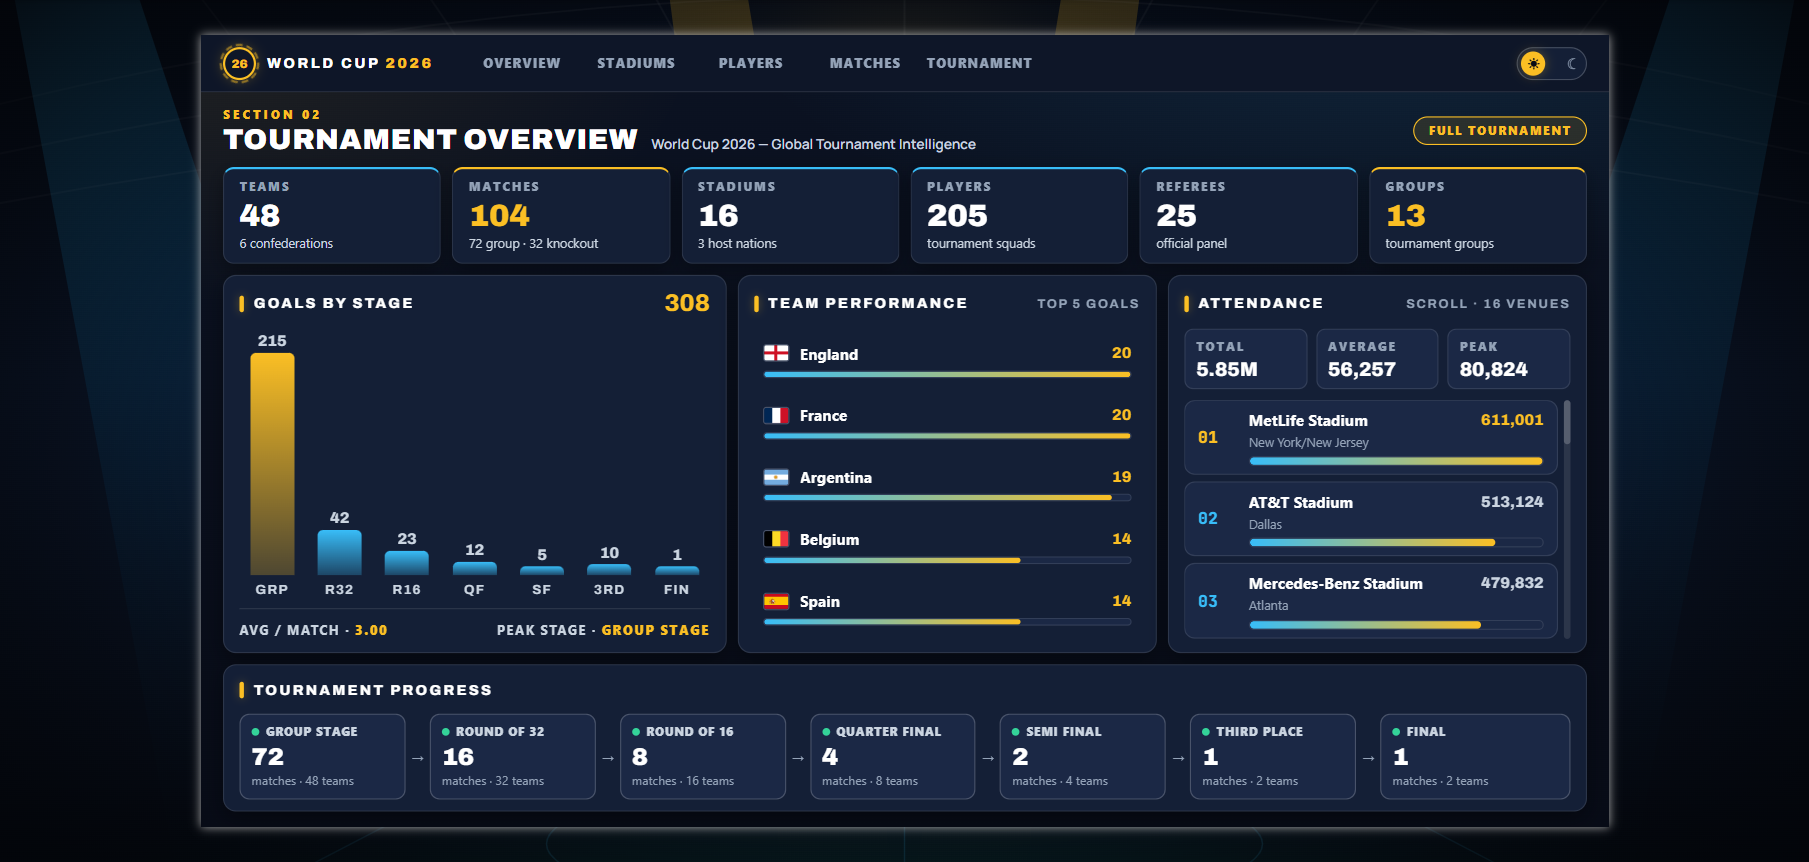

This screenshot's page, from the dashboard's own definition file:
{"tool":"powerbi","page":{"name":"Overview Page","canvas":[1280,720],"ordinal":1},"visuals":[{"type":"htmlContent443BE3AD55E043BF878BED274D3A6855","fields":{"content":["HTML Visuals.Overview_Page"]},"box":[0,0,1280,720],"z":0},{"type":"actionButton","title":"Tournament","box":[656,0,104,51],"z":4000},{"type":"actionButton","title":"Matches","box":[552,0,104,51],"z":4125},{"type":"actionButton","title":"Players","box":[448,0,104,51],"z":4250},{"type":"actionButton","title":"Stadiums","box":[344,0,104,51],"z":4500}]}

Visuals, with their boxes on the page's 1280x720 design canvas (x1, y1, x2, y2). These are canvas units, not pixel positions in the 1809x862 screenshot, which may show the page scaled, cropped or inside an application window:
htmlContent443BE3AD55E043BF878BED274D3A6855 - HTML Visuals.Overview_Page: (0,0,1280,720)
"Tournament" actionButton: (656,0,760,51)
"Matches" actionButton: (552,0,656,51)
"Players" actionButton: (448,0,552,51)
"Stadiums" actionButton: (344,0,448,51)
